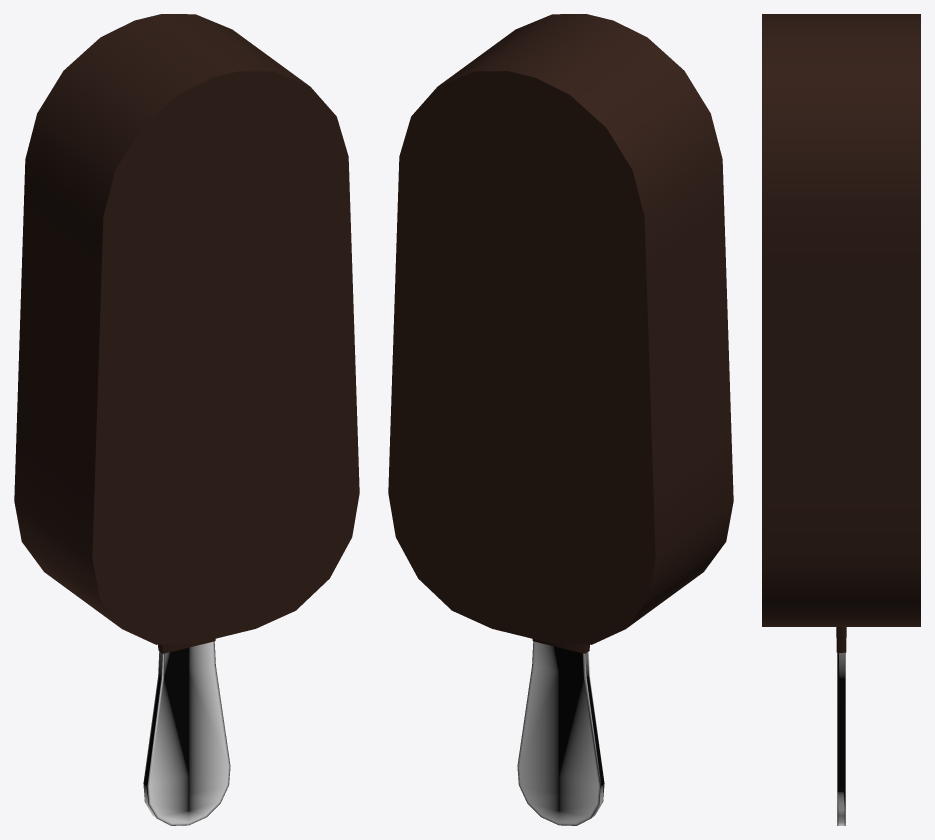
The model's file is ICECreamStickChoc.glb.
3 views of the same model, side by side, from view 1: azimuth 30°, elevation 25°; view 2: azimuth 150°, elevation 25°; view 3: azimuth 270°, elevation 25° (orthographic).
Parts seen in each view (by area): view 1: Eis.002, Stiel.003; view 2: Eis.002, Stiel.003; view 3: Eis.002, Stiel.003.
Part boxes in pixels (x1,y1,x2,y2): Eis.002: (14, 14, 359, 653); Stiel.003: (143, 641, 230, 825); Eis.002: (388, 14, 733, 653); Stiel.003: (517, 641, 604, 825); Eis.002: (762, 14, 920, 652); Stiel.003: (837, 652, 845, 825).
Bounding box in the file's own units: 0.0494 × 0.1375 × 0.025.
